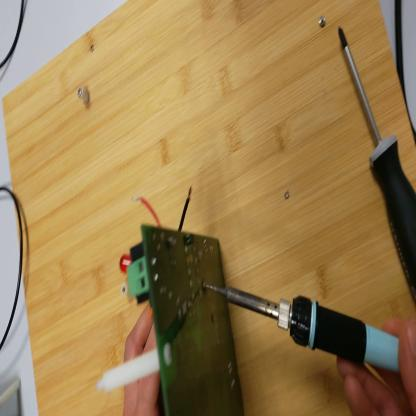hand: (337, 316, 416, 416), (122, 304, 162, 408)
low voltage board: (95, 190, 243, 416)
screwdriver-: (339, 26, 415, 306)
welder probe tip: (206, 287, 400, 377)
working area: (4, 2, 416, 412)
